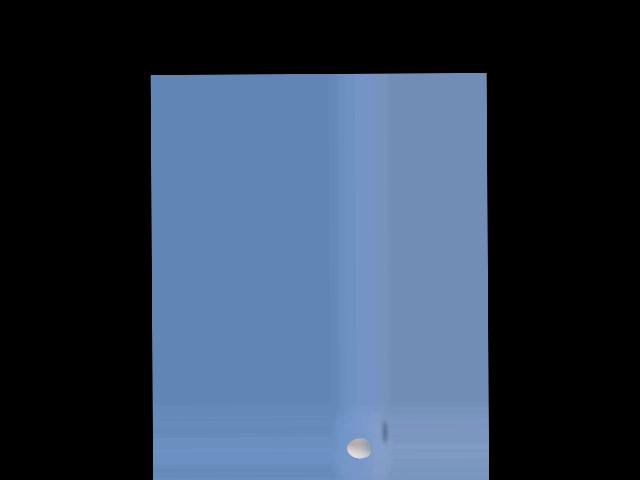egg: (347, 438, 372, 459)
